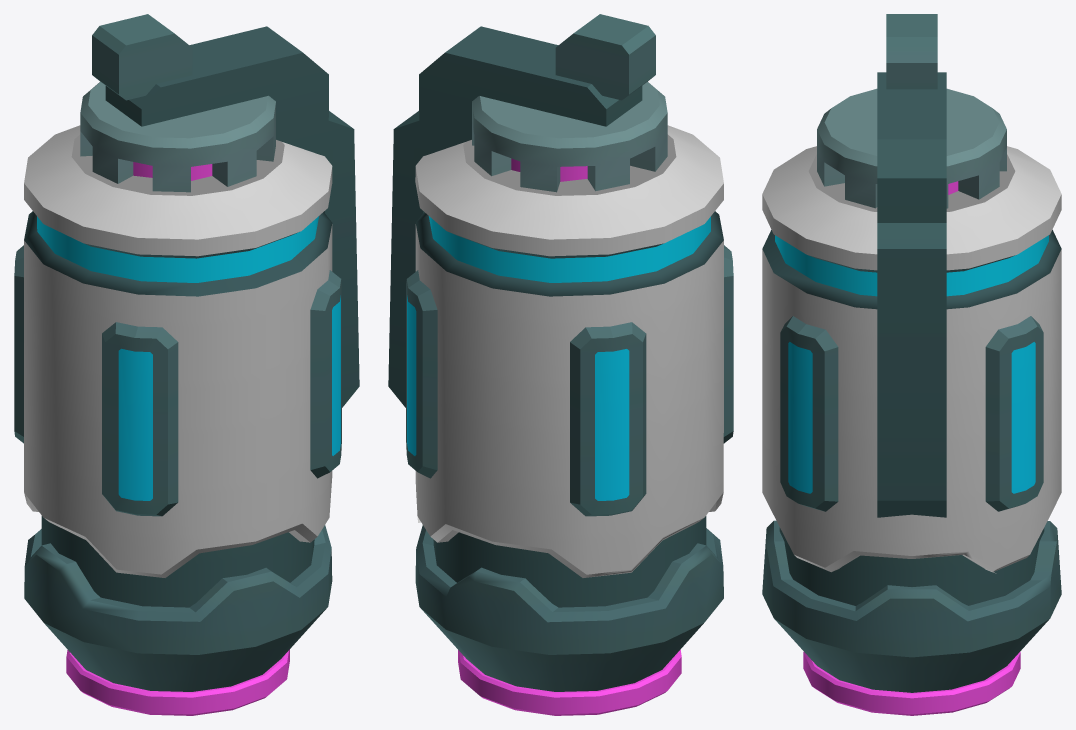
Rendered from Grenade_Smoke_01.fbx.
The picture shows the model from 3 angles, left to right: view 1: azimuth 30°, elevation 25°; view 2: azimuth 150°, elevation 25°; view 3: azimuth 270°, elevation 25°; orthographic projection. The views are drawn at different scales.
Visible parts, largest first — view 1: Grenade_Smoke_01; view 2: Grenade_Smoke_01; view 3: Grenade_Smoke_01.
Boxes of the visible parts, x1,y1,x2,y2 form: Grenade_Smoke_01: (14,14,359,715); Grenade_Smoke_01: (388,14,733,715); Grenade_Smoke_01: (762,14,1061,715).
Bounding box in the file's own units: 7.65 × 15.93 × 6.9.
